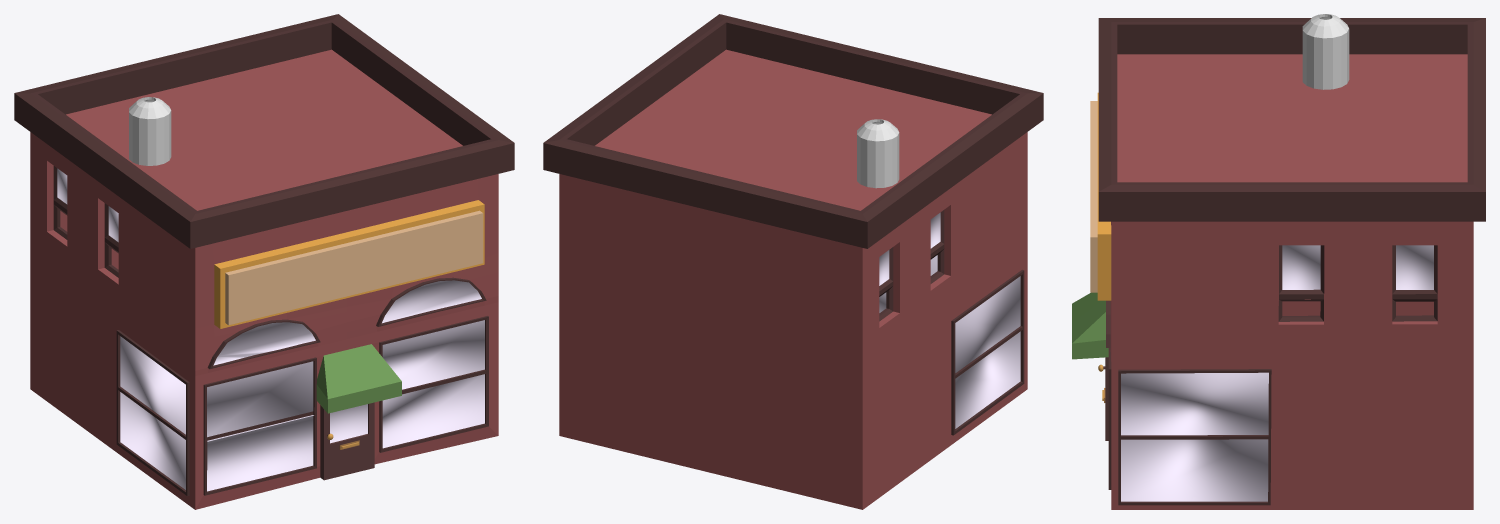
Rendered from Bookstore.fbx.
3 renders of one model, left to right at view 1: azimuth 30°, elevation 25°; view 2: azimuth 150°, elevation 25°; view 3: azimuth 270°, elevation 25°, orthographic. The views are drawn at different scales.
Parts seen in each view (by area): view 1: Plane.011; view 2: Plane.011; view 3: Plane.011.
Part boxes in pixels (bbox=[...]): Plane.011: bbox=[14, 14, 514, 509]; Plane.011: bbox=[543, 14, 1043, 509]; Plane.011: bbox=[1072, 14, 1485, 509].
Bounding box in the file's own units: 2948 × 2833 × 2966.
